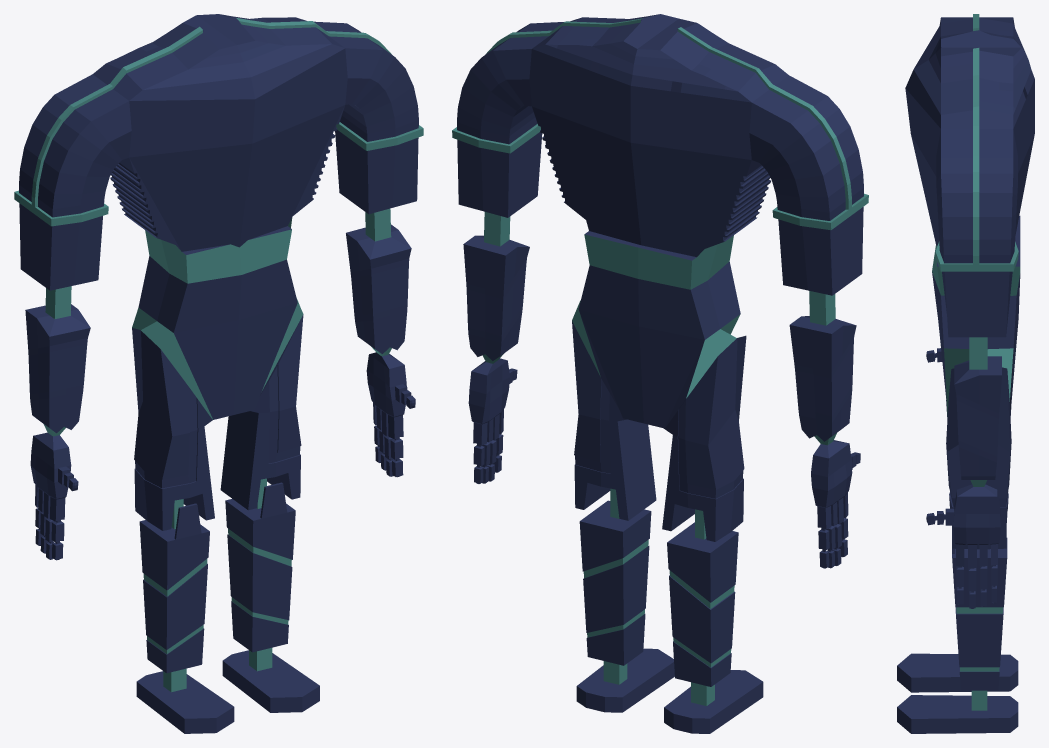
The model's file is body1.fbx.
The picture shows the model from 3 angles, left to right: view 1: azimuth 30°, elevation 25°; view 2: azimuth 150°, elevation 25°; view 3: azimuth 270°, elevation 25°; orthographic projection. The views are drawn at different scales.
Visible parts, largest first — view 1: cyborgMesh.003; view 2: cyborgMesh.003; view 3: cyborgMesh.003.
Part boxes in pixels (x1,y1,x2,y2): cyborgMesh.003: (14, 14, 423, 733); cyborgMesh.003: (452, 14, 868, 733); cyborgMesh.003: (897, 14, 1034, 733).
Bounding box in the file's own units: 0.324 × 0.5572 × 0.105.
